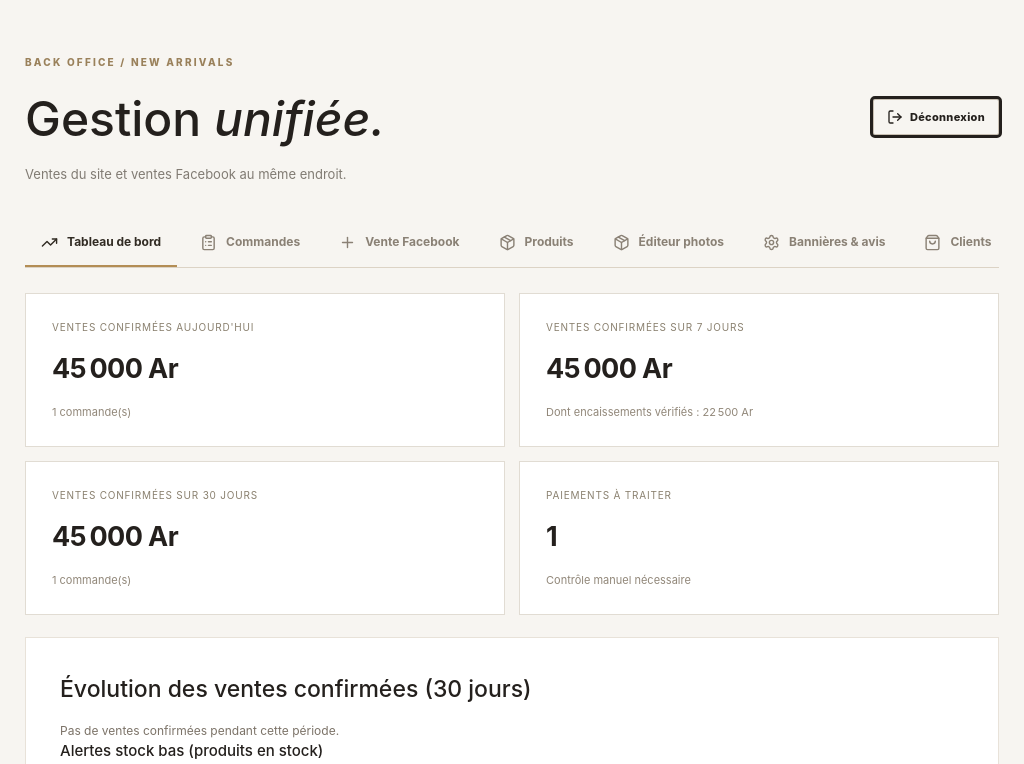
Scenario: met à jour les états de paiement et commande, erreur=true
The width and height of the screenshot is (1024, 764).
Check: the heading "Gestion unifiée." is shown, box [25,82,385,154]
Click the button "Commandes" at [250, 243], box [184,219,316,267]
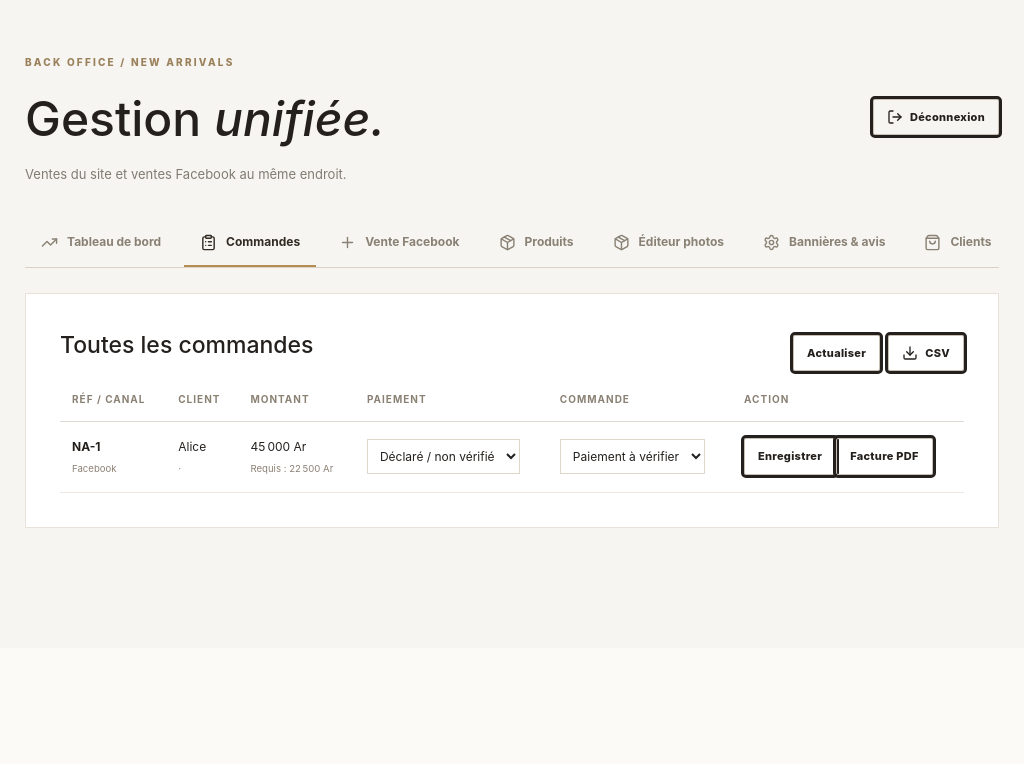
Check: the text "NA-1" is shown, box [72,438,100,454]
Select "Vérifié" in the 1st dropdown at [443, 457], box [367,439,520,474]
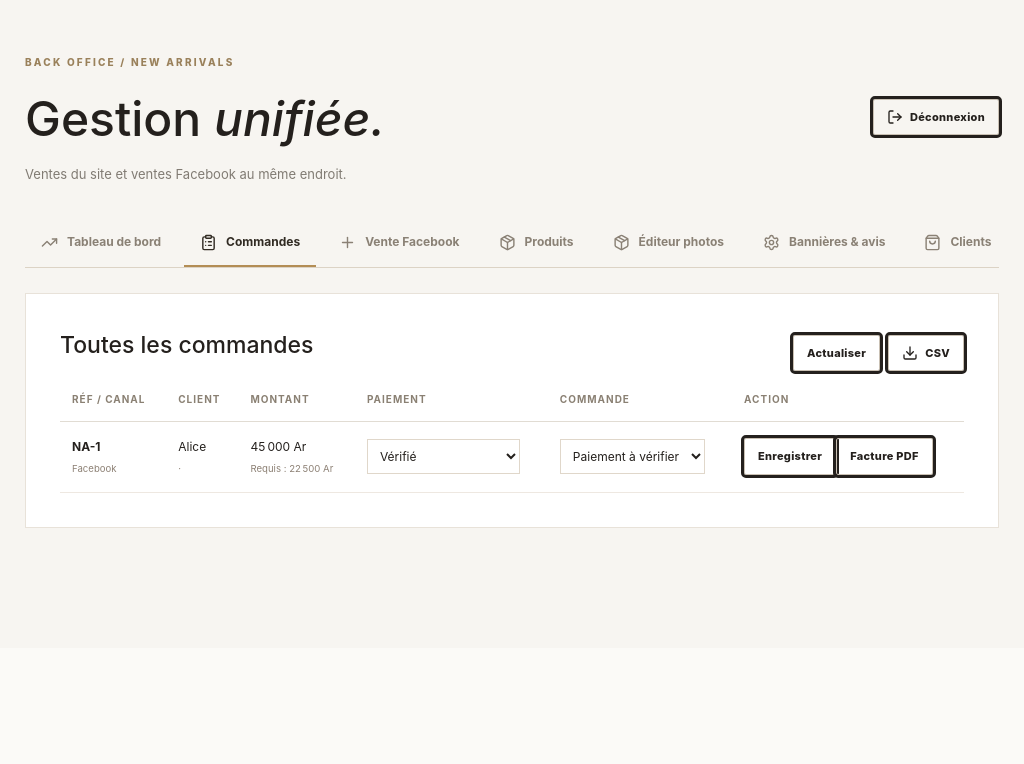
Select "En préparation" in the 2nd dropdown at [632, 457], box [560,439,705,474]
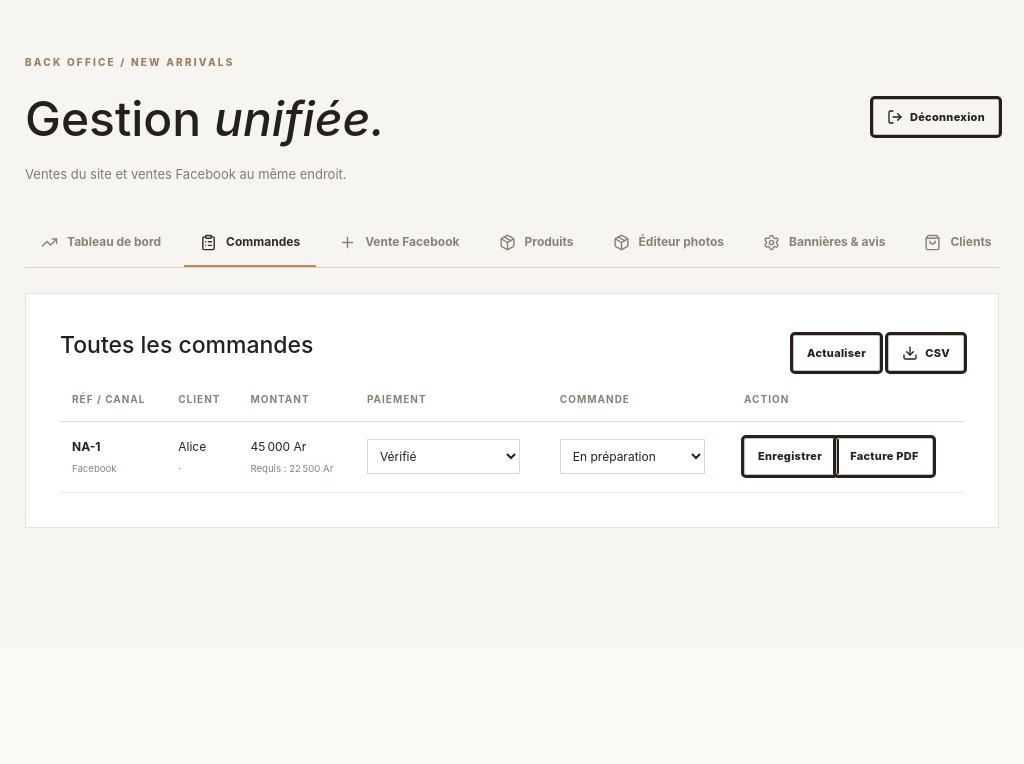
Click the button "Enregistrer" at [790, 457], box [744,438,836,475]
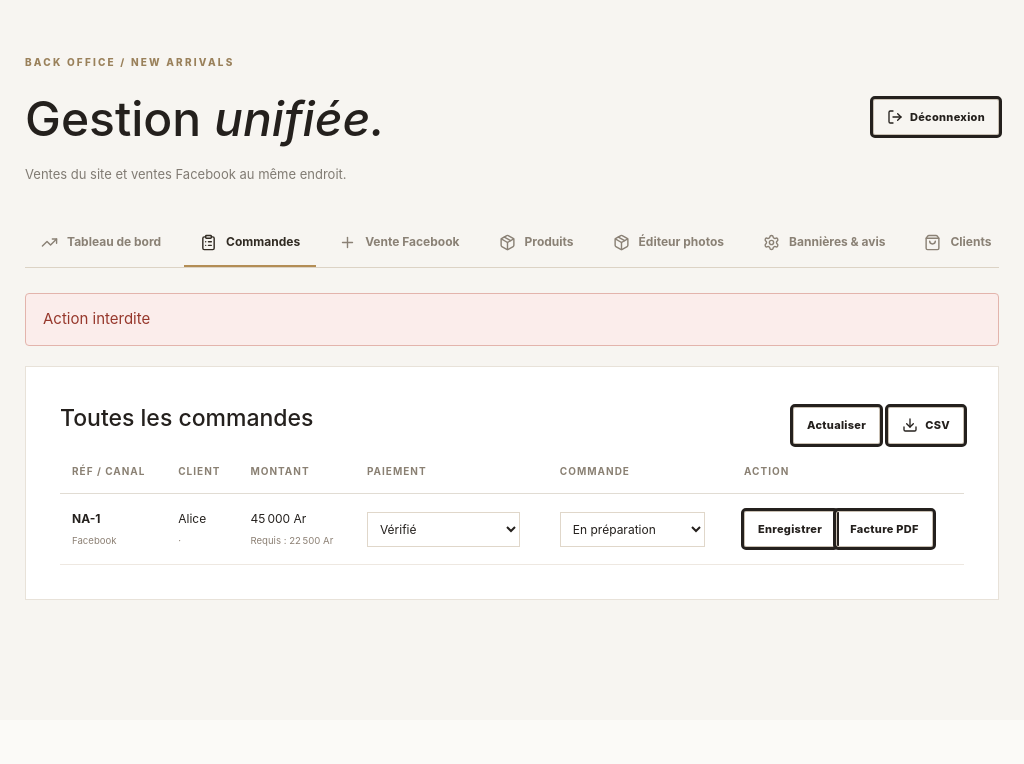
Check: the text "Action interdite" is shown, box [25,293,999,346]
